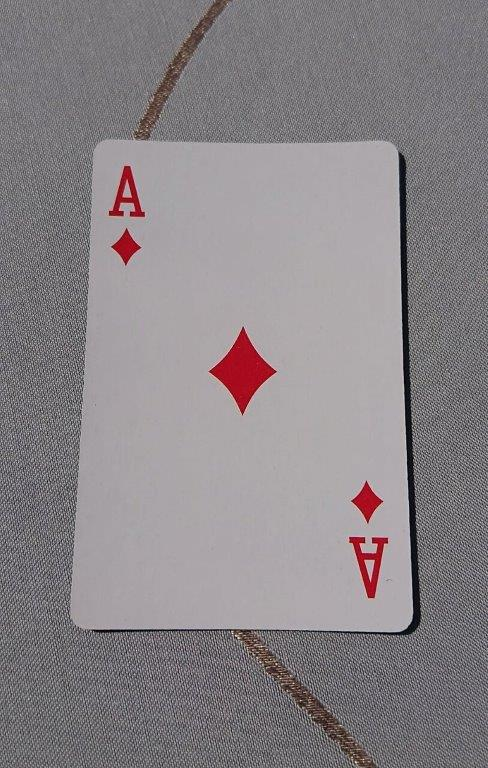AD: (65, 137, 421, 634)
